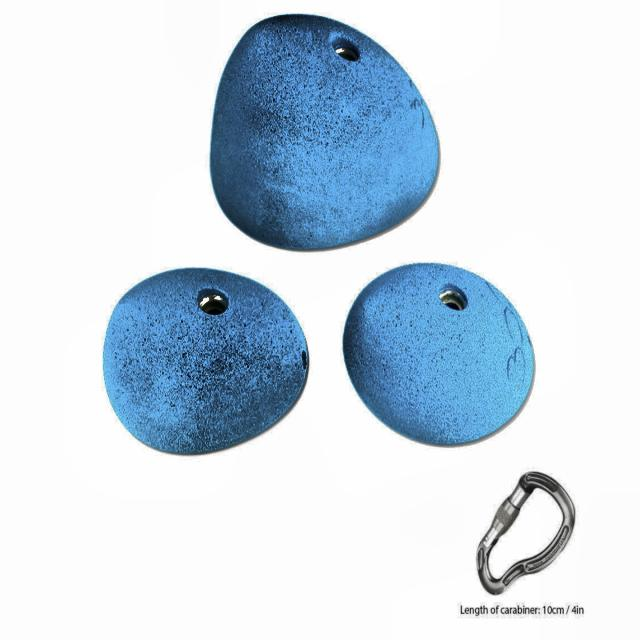Hold: (209, 14, 439, 249), (104, 266, 310, 452), (342, 261, 538, 445)
